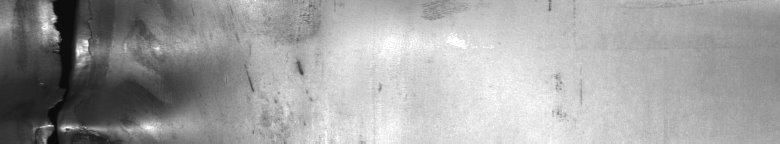ke: (33, 4, 161, 136)
